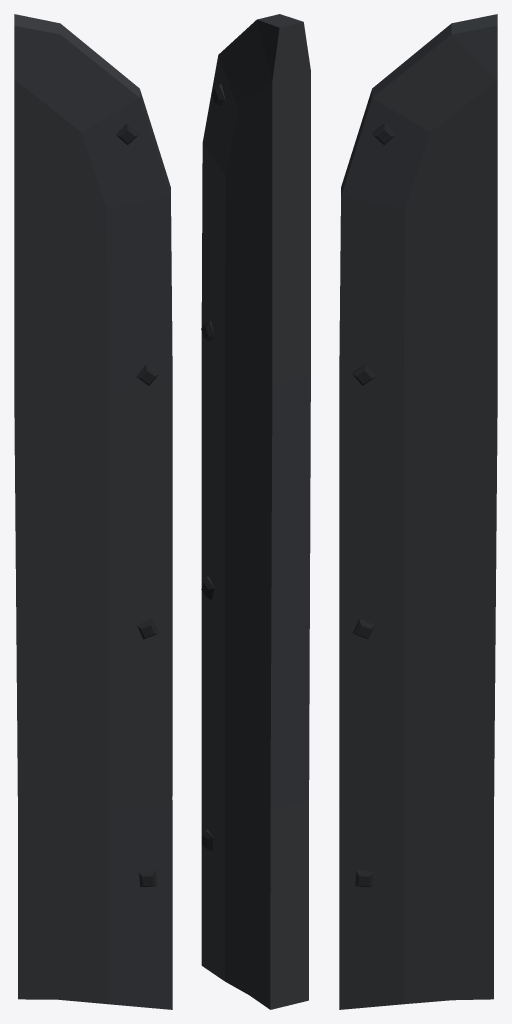
Rendered from SM_Wep_Machete_01_Sheath.fbx.
3 renders of one model, left to right at view 1: azimuth 90°, elevation 25°; view 2: azimuth 210°, elevation 25°; view 3: azimuth 270°, elevation 25°, orthographic.
Visible parts, largest first — view 1: SM_Wep_Machete_01_Sheath; view 2: SM_Wep_Machete_01_Sheath; view 3: SM_Wep_Machete_01_Sheath.
Part boxes in pixels (x1,y1,x2,y2): SM_Wep_Machete_01_Sheath: [14, 14, 172, 1009]; SM_Wep_Machete_01_Sheath: [201, 14, 310, 1009]; SM_Wep_Machete_01_Sheath: [339, 14, 497, 1009].
Size of the model in its own units: 3.49 by 86.22 by 12.58.
